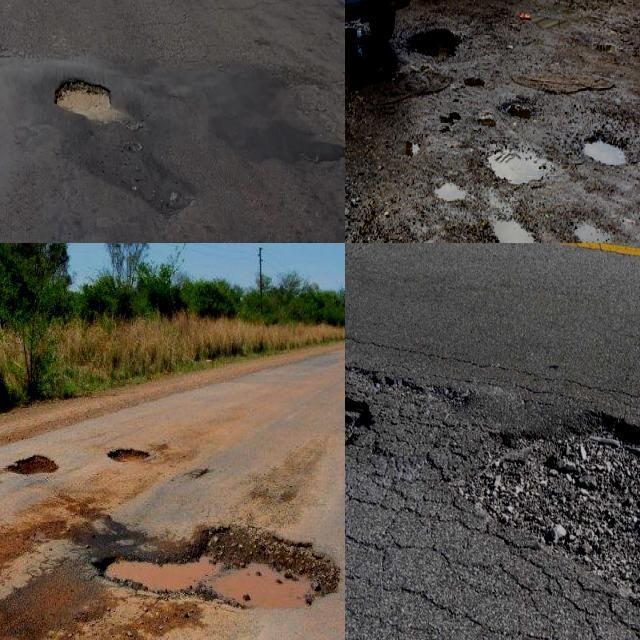Pothole: (471, 413, 640, 583), (94, 527, 338, 608), (54, 76, 112, 120), (409, 30, 462, 60), (584, 136, 630, 169), (491, 161, 543, 186), (491, 221, 535, 243), (10, 455, 57, 473), (110, 451, 149, 463)
